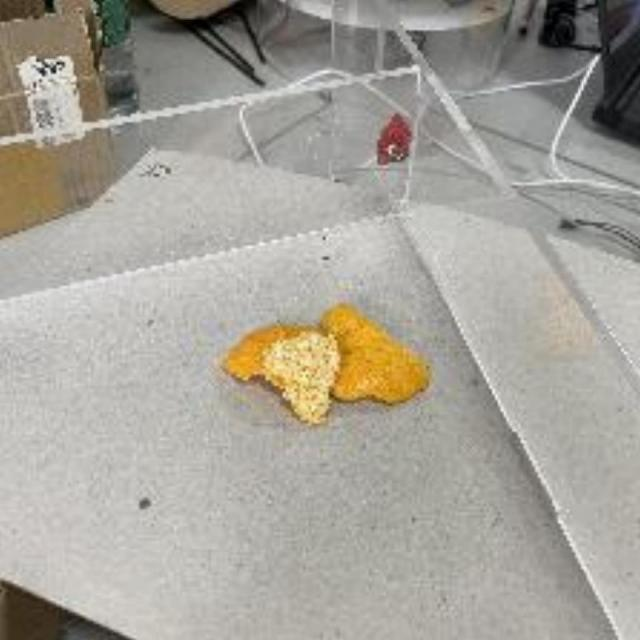orange peel: (223, 322, 341, 428), (322, 302, 434, 408)
